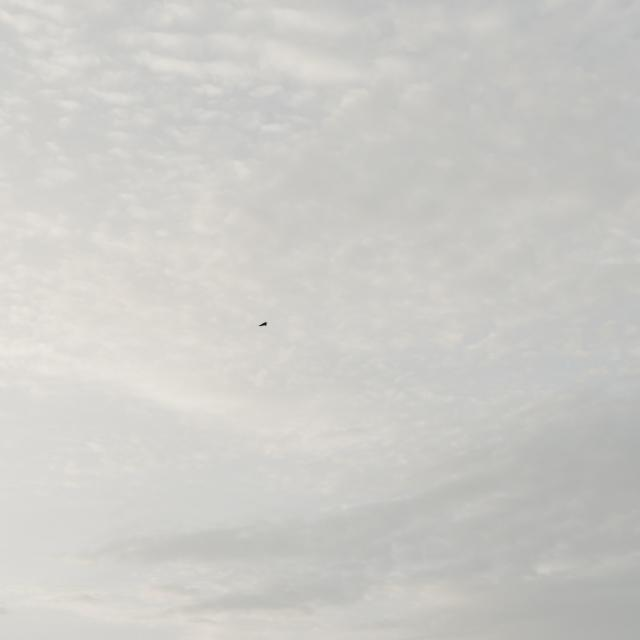Airaplan: (258, 322, 268, 328)
